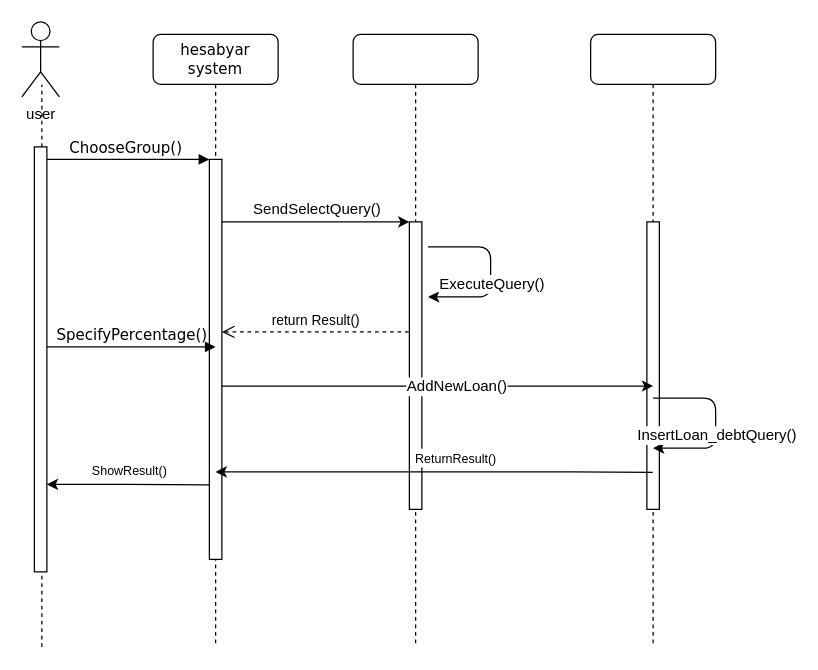
Image size: 818x670. Some labels were removed from this diagram. Each missing label, with the box of its shape:
group:Group: (352, 33, 478, 647)
transaction:transaction: (589, 33, 716, 647)
